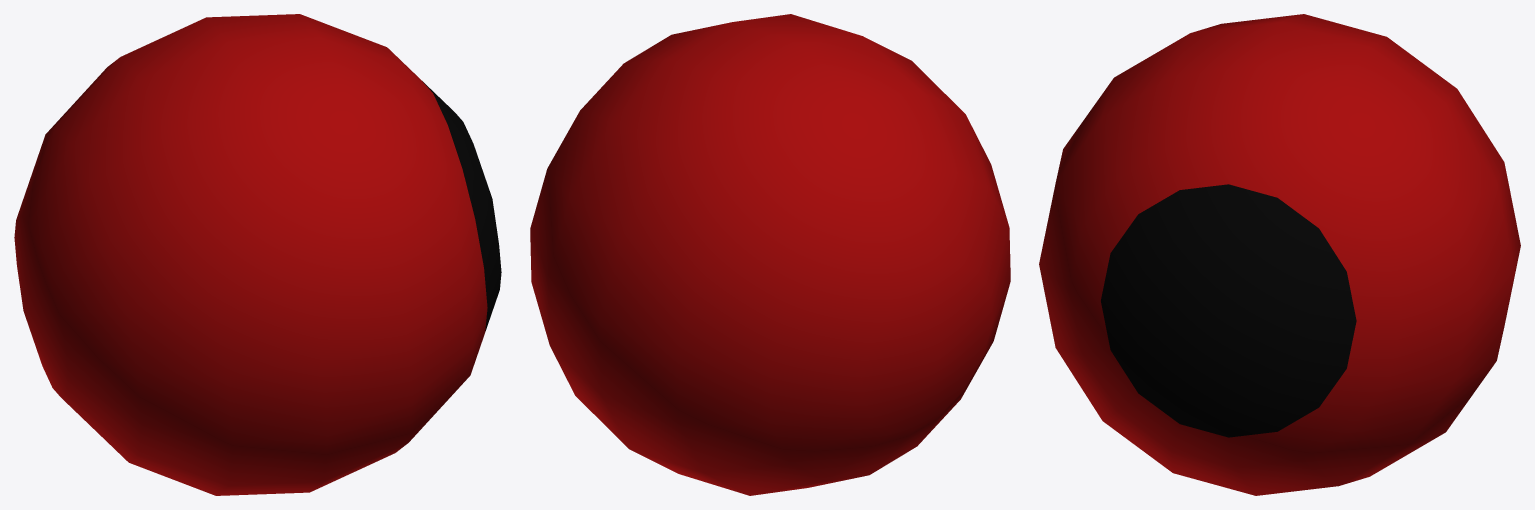
The model's file is piranha_eye.obj.
3 views of the same model, side by side, from view 1: azimuth 30°, elevation 25°; view 2: azimuth 150°, elevation 25°; view 3: azimuth 270°, elevation 25° (orthographic).
Parts seen in each view (by area): view 1: eye; view 2: eye; view 3: eye.
Part boxes in pixels (x1=…): eye: x1=14, y1=14, x2=501, y2=495; eye: x1=530, y1=14, x2=1010, y2=495; eye: x1=1039, y1=14, x2=1520, y2=495.
Bounding box in the file's own units: 0.0208 × 0.0207 × 0.0207.
